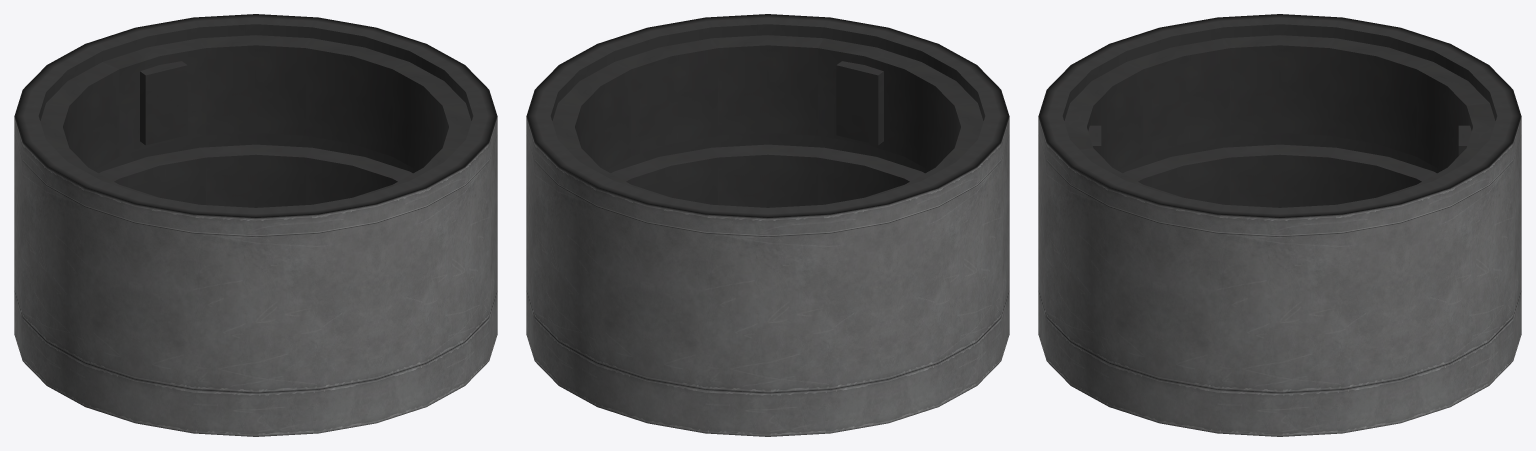
Rendered from rotanev_battery_s2_2.obj.
3 renders of one model, left to right at view 1: azimuth 30°, elevation 25°; view 2: azimuth 150°, elevation 25°; view 3: azimuth 270°, elevation 25°, orthographic.
Visible parts, largest first — view 1: s1, 1; view 2: s1, 1; view 3: s1, 1.
Boxes of the visible parts, box(x1,y1,x2,y2) form: s1: box(14, 116, 497, 436); 1: box(14, 14, 497, 217); s1: box(526, 116, 1009, 436); 1: box(526, 14, 1009, 217); s1: box(1038, 116, 1521, 436); 1: box(1038, 14, 1521, 217).
Size of the model in its own units: 2.5 by 1.25 by 2.5.
